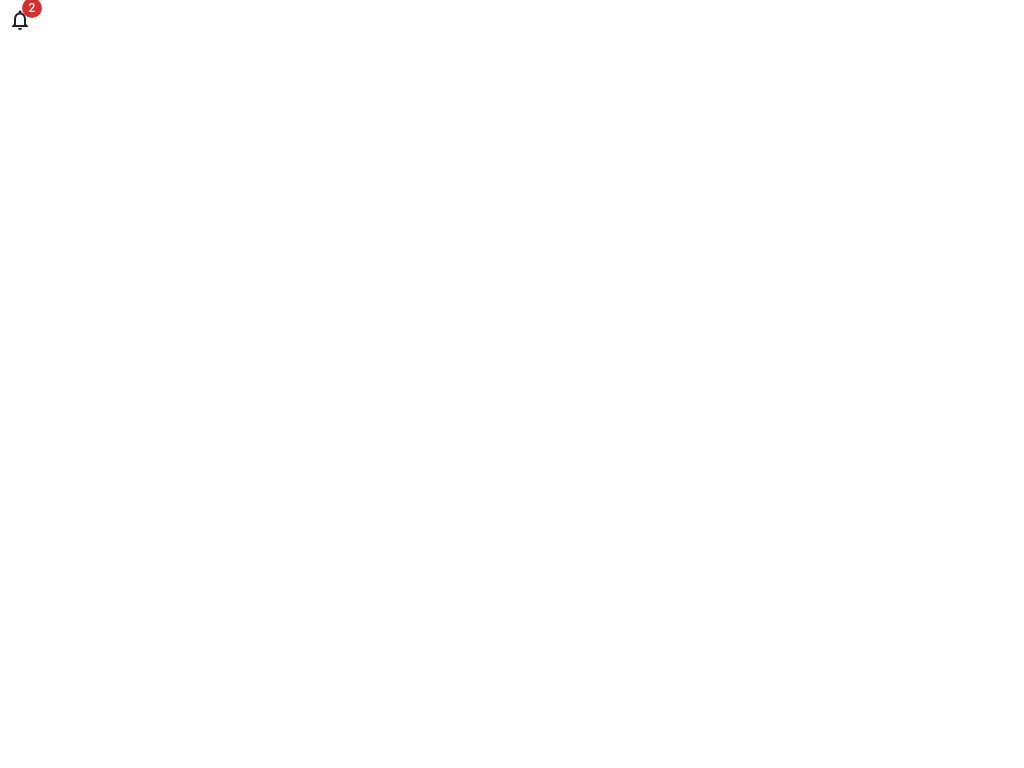
Test: retains unread state if marking read fails
Click the button named "Notifications, 2 unread" at (20,20), box x1=0 y1=0 x2=40 y2=40
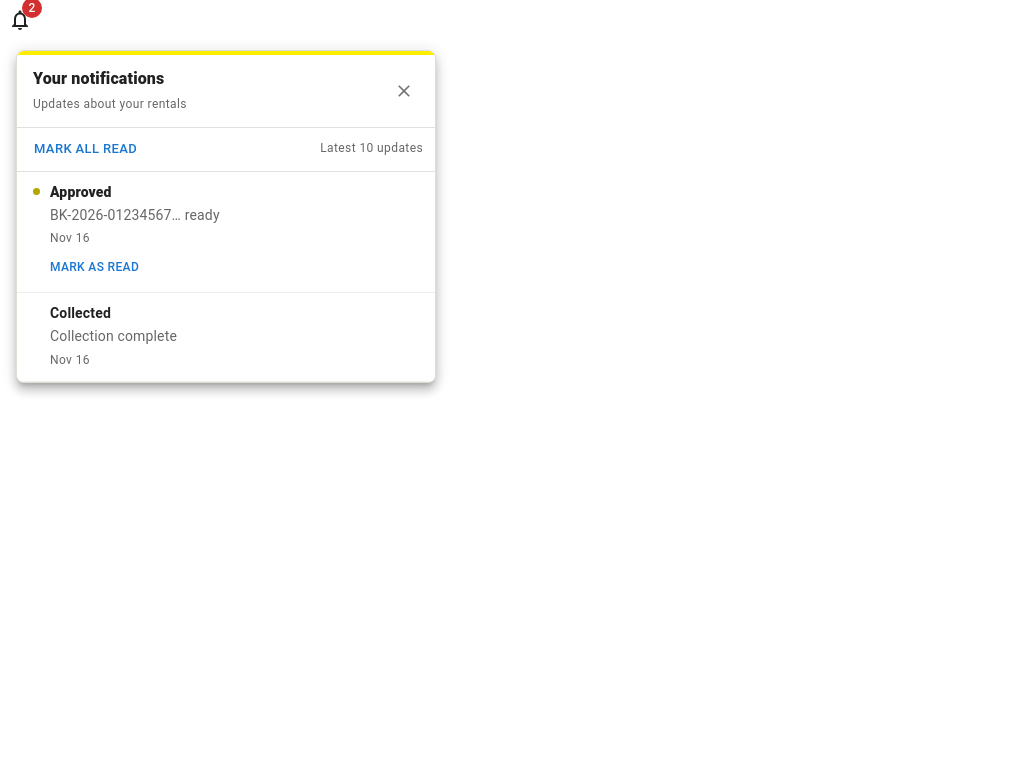
Now the text "Your notifications" is shown, box x1=33 y1=67 x2=187 y2=91
Click the button "Mark as read" at (95,268), box x1=50 y1=253 x2=139 y2=282
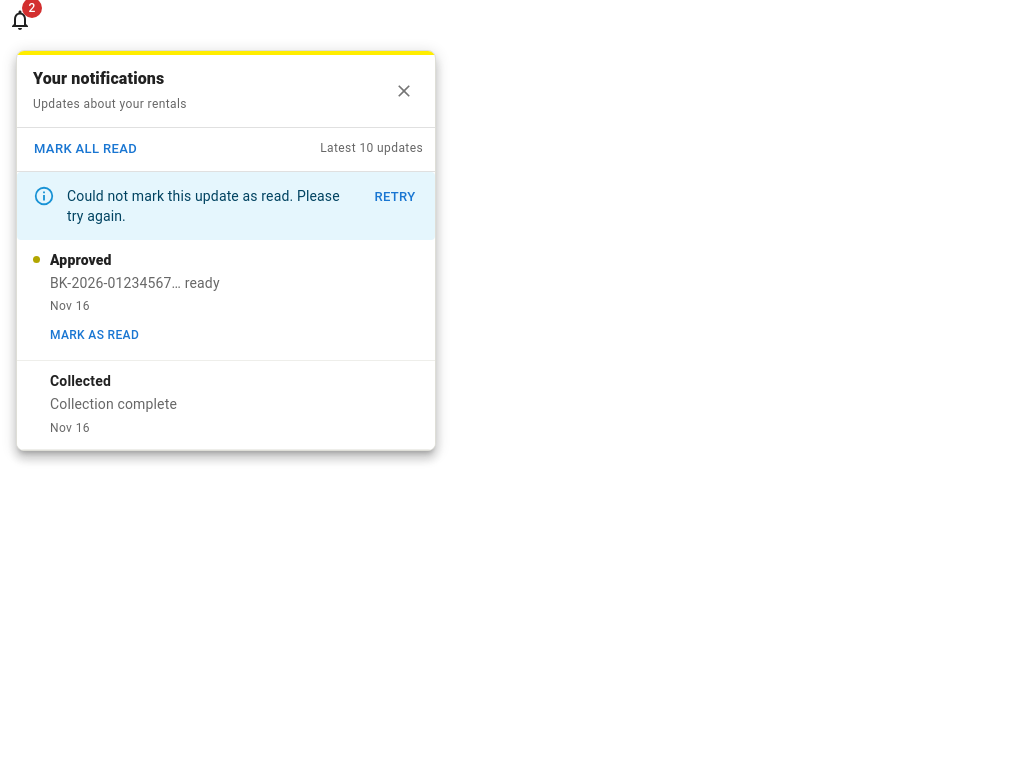
Expected: the button named "Notifications, 2 unread" is shown, x1=0 y1=0 x2=40 y2=40
Now the text "Could not mark this update as read. Please try again." is shown, box x1=67 y1=178 x2=347 y2=234
